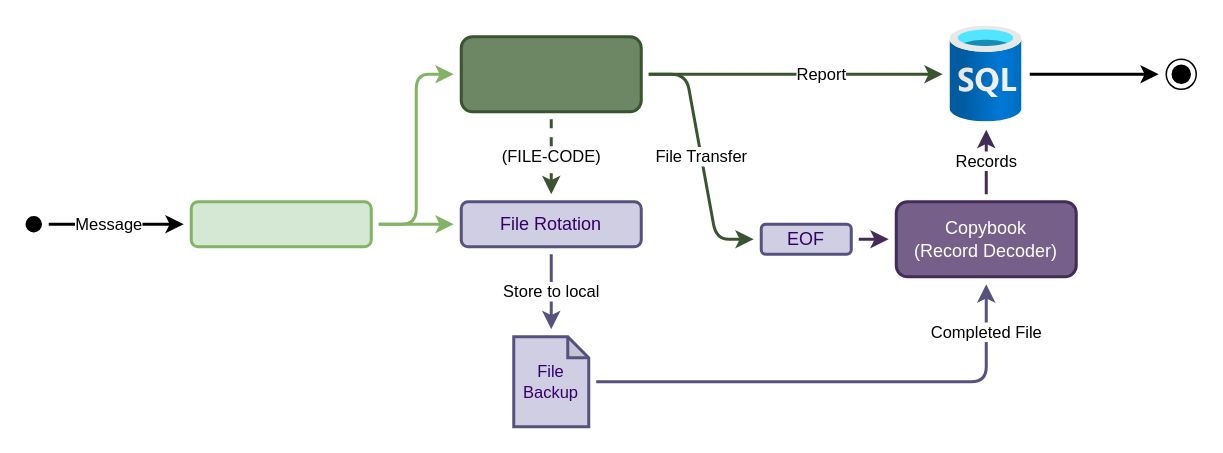
The diagram is 1223 pixels wide and 453 high, and some of its shapes have lost their labels. Each missing label, with the box of its shape:
Socket Service: (189, 200, 372, 248)
TeMPlar (TMP Decoder): (459, 34, 642, 112)
